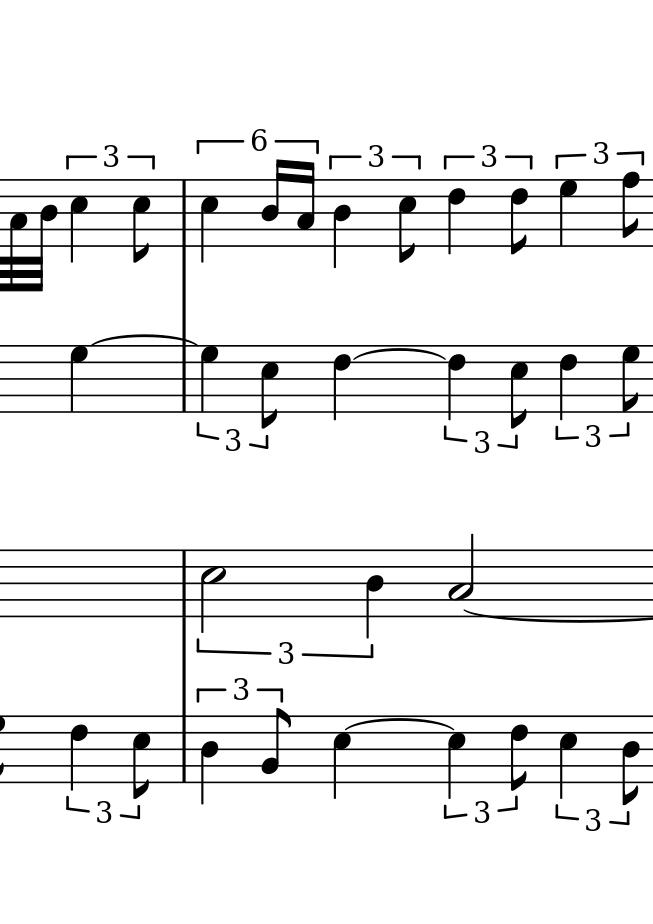16_3: (296, 160, 315, 247)
16_4: (260, 158, 288, 247)
2_3: (448, 532, 475, 616)
2_5: (199, 546, 226, 630)
32_3: (8, 176, 28, 293)
32_4: (30, 177, 57, 293)
4_4: (199, 714, 220, 808), (332, 179, 352, 271), (365, 549, 385, 638)
4_5: (68, 177, 89, 266), (199, 180, 221, 263), (332, 713, 352, 803), (558, 713, 578, 803), (446, 713, 466, 802)
4_6: (447, 178, 467, 256), (447, 343, 467, 421), (332, 343, 351, 421), (69, 714, 88, 791), (559, 344, 578, 420)
4_7: (198, 342, 221, 414), (68, 343, 91, 414), (558, 179, 580, 247)
8_2: (259, 707, 290, 784)
8_4: (621, 715, 641, 808)
8_5: (131, 178, 151, 265), (509, 344, 529, 431), (397, 179, 417, 265), (259, 344, 279, 430), (131, 715, 151, 801)
8_6: (509, 714, 529, 794), (509, 179, 529, 258)
8_7: (621, 344, 641, 414)
8_8: (620, 171, 642, 249)
Single_barline: (176, 347, 194, 412), (176, 550, 193, 618), (177, 179, 192, 248), (177, 714, 192, 782)
Slur: (342, 714, 456, 731), (353, 347, 447, 361), (89, 334, 197, 344)
